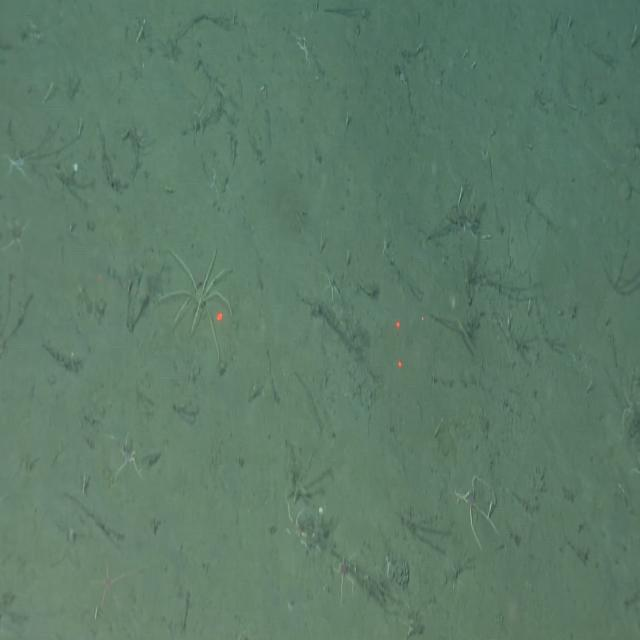Brittle Star: (449, 468, 503, 552), (82, 547, 139, 624), (105, 424, 150, 489), (278, 493, 317, 558), (328, 542, 362, 606)
Not Brittle Star: (151, 240, 239, 371)
